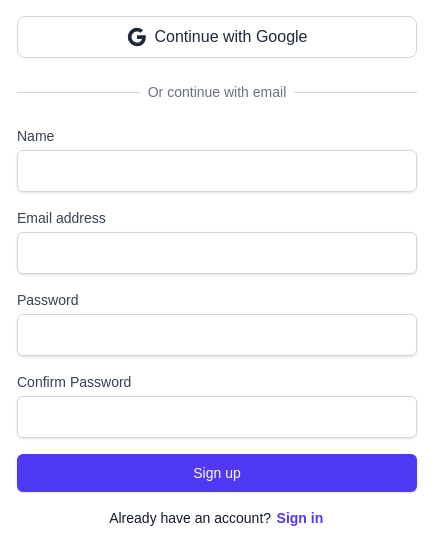
Scenario: AuthForm Component › Signup Mode › shows verification sent screen after successful signup
Fill in the form with valid data
Type "Test User" into the field labelled "Name" at (217, 171), box [17,150,417,192]
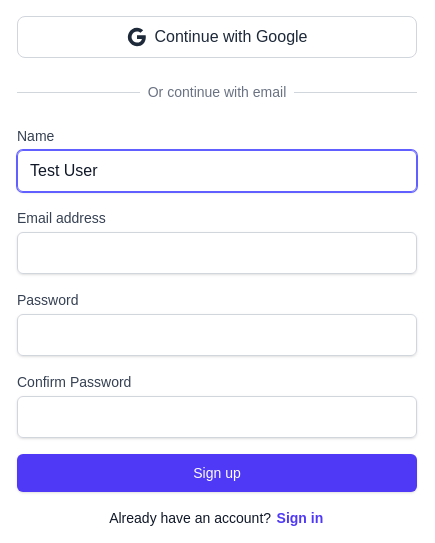
Type "test@example.com" into the field labelled "Email address" at (217, 253), box [17,232,417,274]
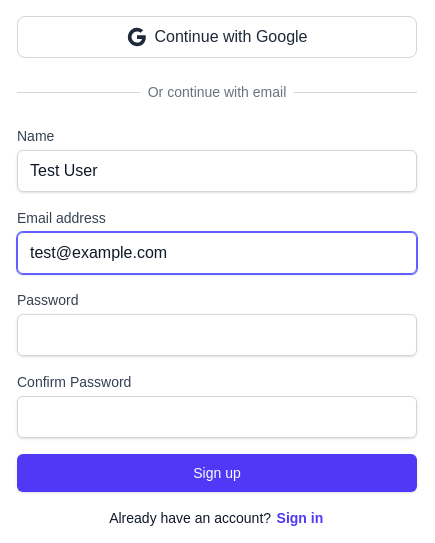
Type "password123" into the password field labelled "Password" at (217, 335), box [17,314,417,356]
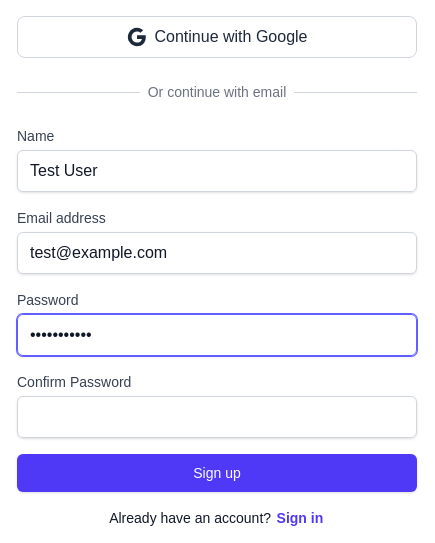
Type "password123" into the password field labelled "Confirm Password" at (217, 417), box [17,396,417,438]
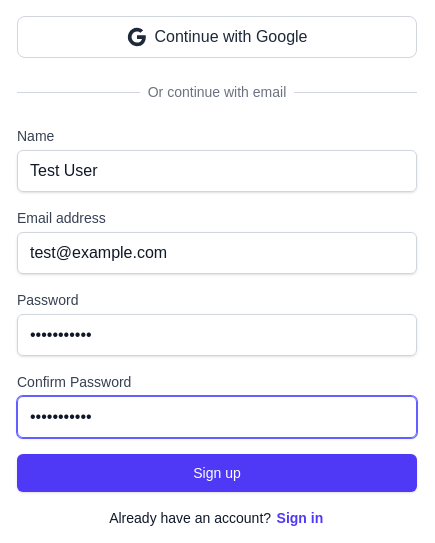
Submit the form
Click the button "Sign up" at (217, 473), box [17,454,417,492]
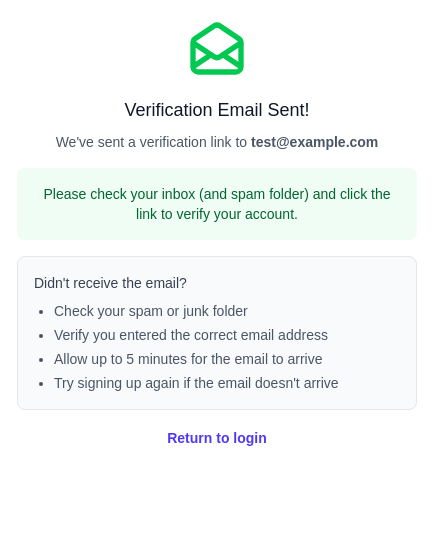
Expected: the heading "Verification Email Sent!" is shown, [124,100,310,120]
Expected: the text "test@example.com" is shown, [251,134,378,150]
